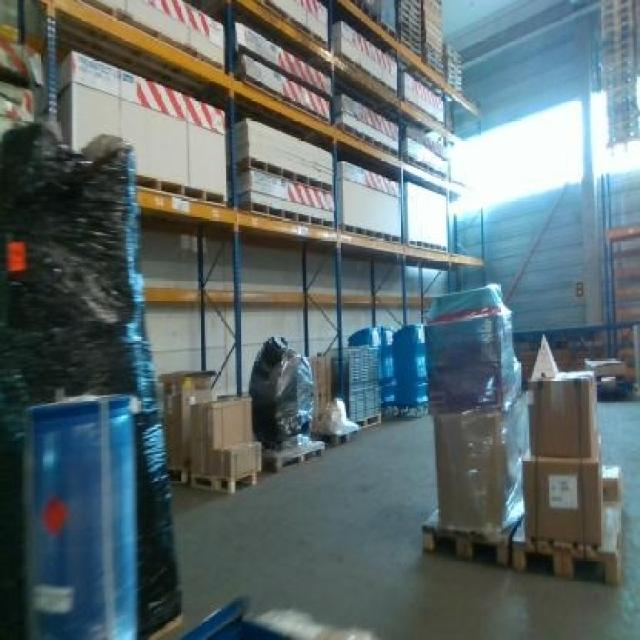pallets: (422, 283, 617, 582), (425, 283, 518, 409), (191, 394, 258, 489)
